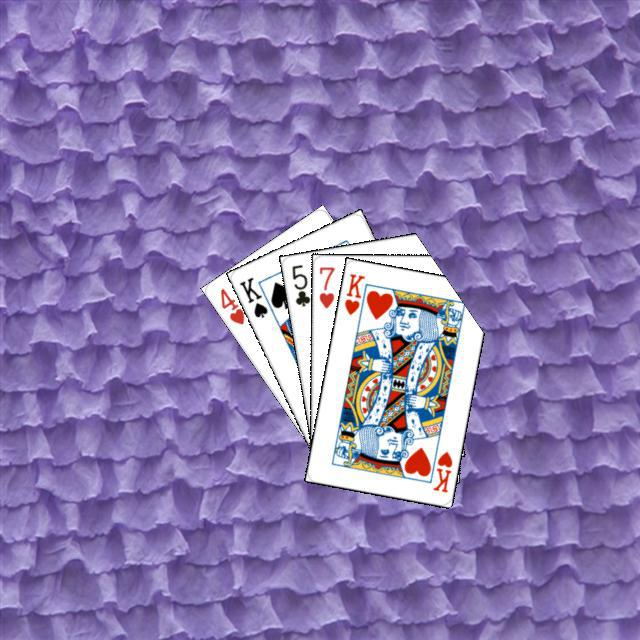4h: (215, 283, 246, 326)
5c: (287, 259, 312, 308)
7h: (314, 262, 336, 310)
Kh: (339, 269, 371, 323), (428, 446, 454, 494)
Ks: (235, 272, 270, 320)
